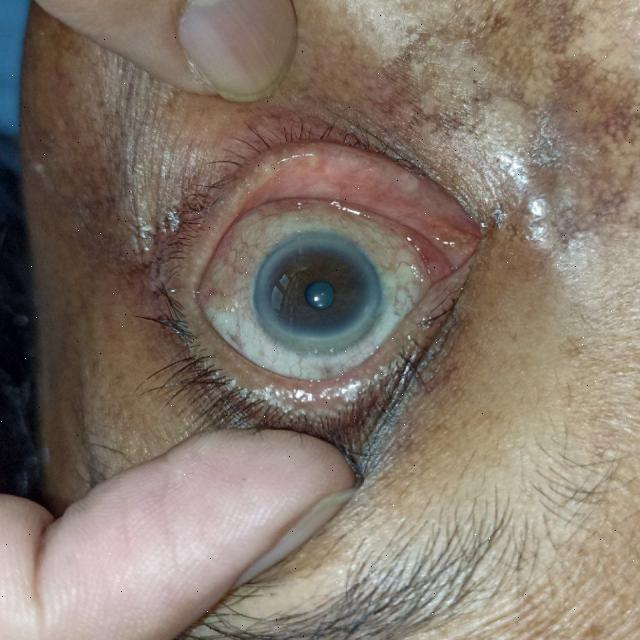Cataract: (251, 228, 388, 357)
